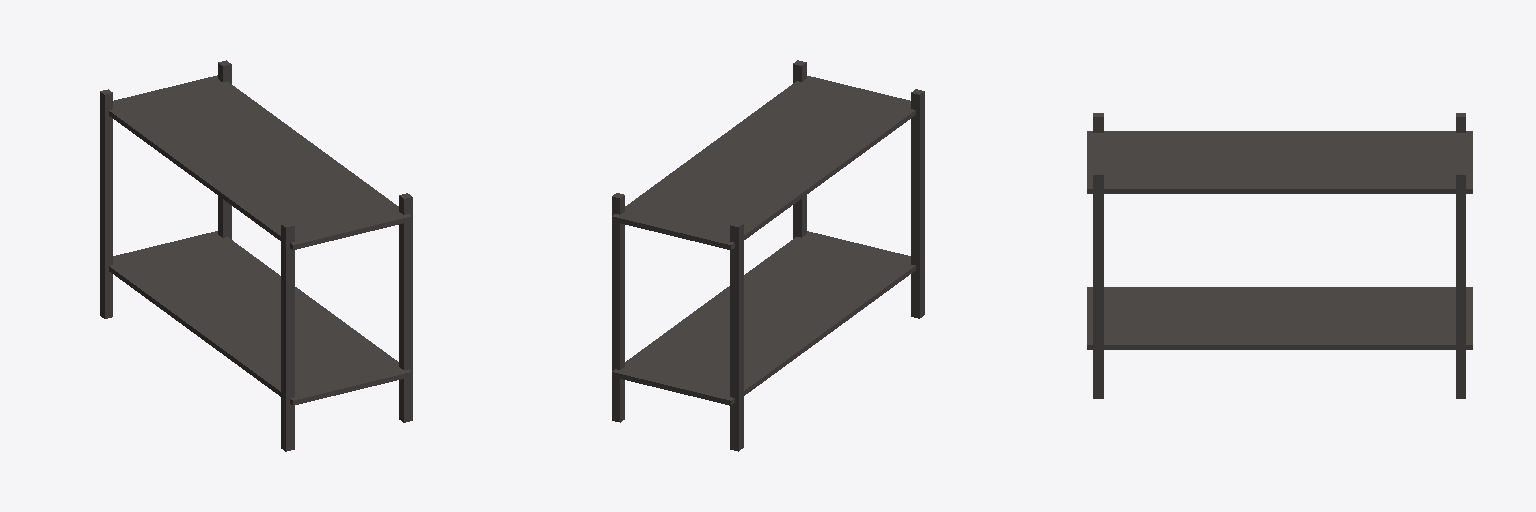
The model's file is StandForSale.obj.
The picture shows the model from 3 angles: view 1: azimuth 30°, elevation 25°; view 2: azimuth 150°, elevation 25°; view 3: azimuth 270°, elevation 25°; orthographic projection.
Parts seen in each view (by area): view 1: Cube.005, Cube.004, Cube.002, Cube, Cube.003, Cube.001; view 2: Cube.005, Cube.004, Cube.003, Cube.002, Cube.001, Cube; view 3: Cube.005, Cube.004, Cube, Cube.001.
Boxes of the visible parts, x1=… form: Cube.005: x1=109, y1=75, x2=411, y2=249; Cube.004: x1=109, y1=231, x2=411, y2=405; Cube.002: x1=281, y1=222, x2=294, y2=451; Cube: x1=399, y1=193, x2=412, y2=422; Cube.003: x1=100, y1=89, x2=112, y2=318; Cube.001: x1=218, y1=60, x2=231, y2=239; Cube.005: x1=612, y1=76, x2=915, y2=249; Cube.004: x1=612, y1=231, x2=915, y2=405; Cube.003: x1=730, y1=222, x2=743, y2=451; Cube.002: x1=911, y1=89, x2=924, y2=318; Cube.001: x1=612, y1=193, x2=624, y2=422; Cube: x1=793, y1=60, x2=806, y2=238; Cube.005: x1=1087, y1=131, x2=1472, y2=193; Cube.004: x1=1087, y1=287, x2=1472, y2=349; Cube: x1=1093, y1=171, x2=1103, y2=398; Cube.001: x1=1456, y1=171, x2=1465, y2=398.
Bounding box in the file's own units: 3.24 × 5.47 × 8.54.